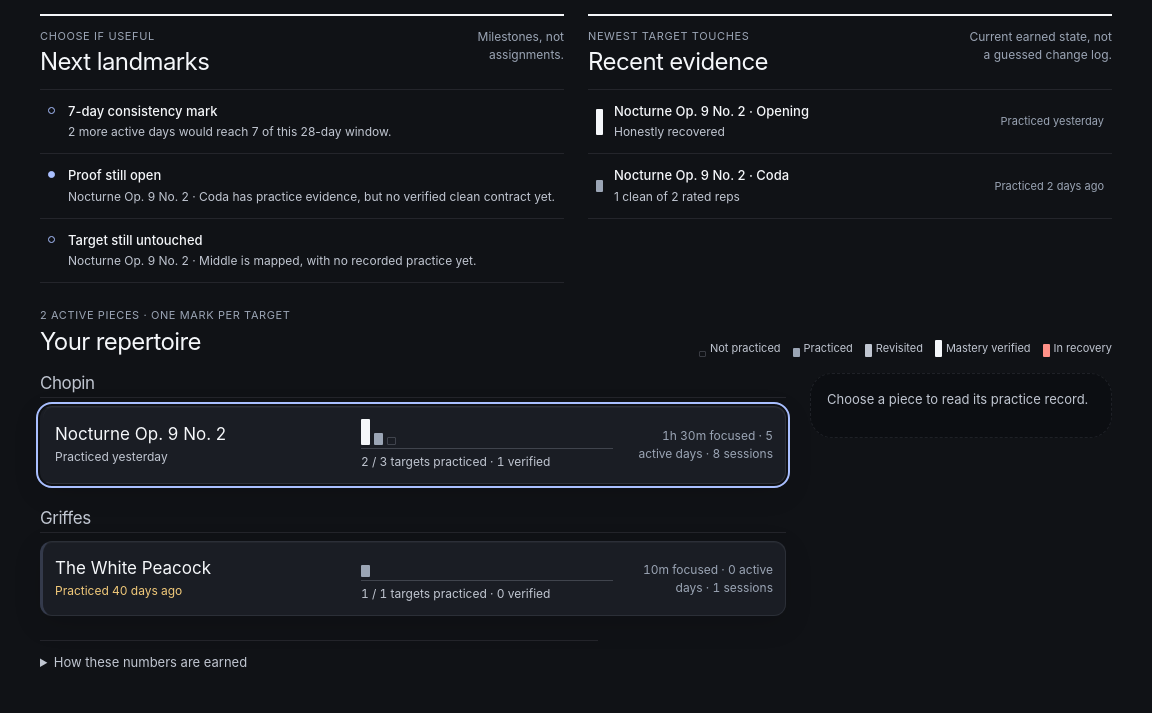
it: UniverseWorkspace evidence-first progress › keeps every piece reachable and activatable from the keyboard
(page scrolled)
Expected: the heading "Your repertoire" is shown, [40,327,201,356]
Step 1. Click the button with test id "universe-piece-7" → (413, 445), box [40,406,786,484]
(page scrolled)
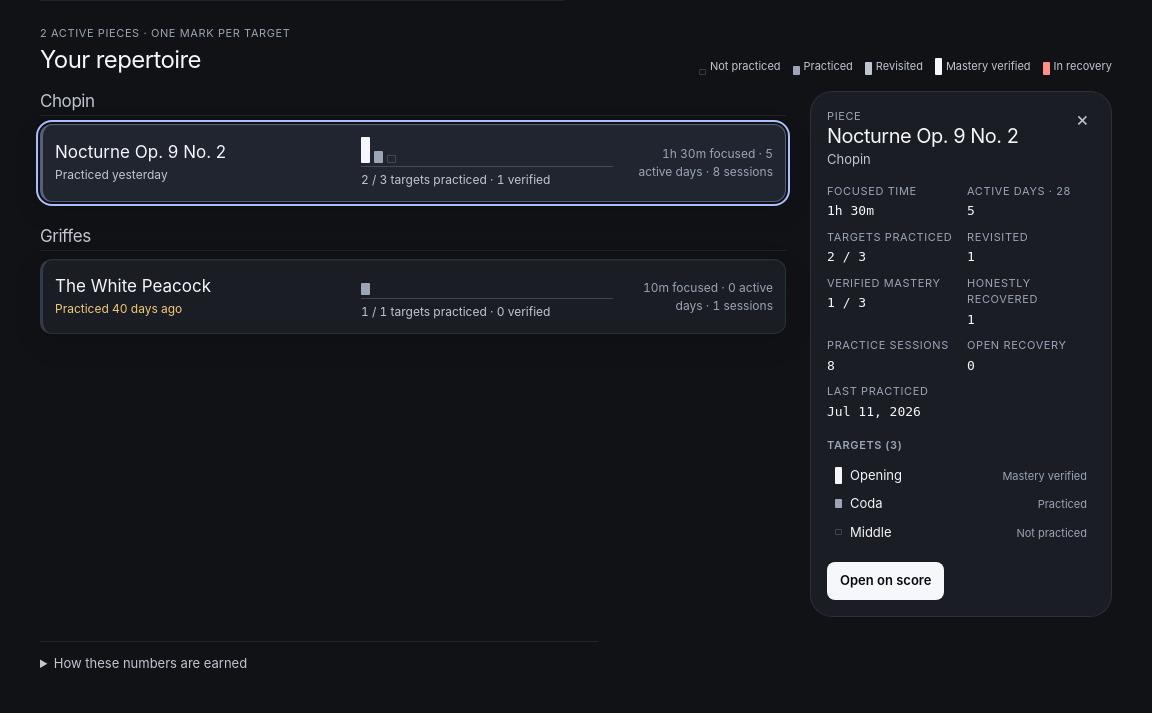
Expected: the element "Nocturne Op. 9 No. 2" is shown, [810,91,1112,617]
